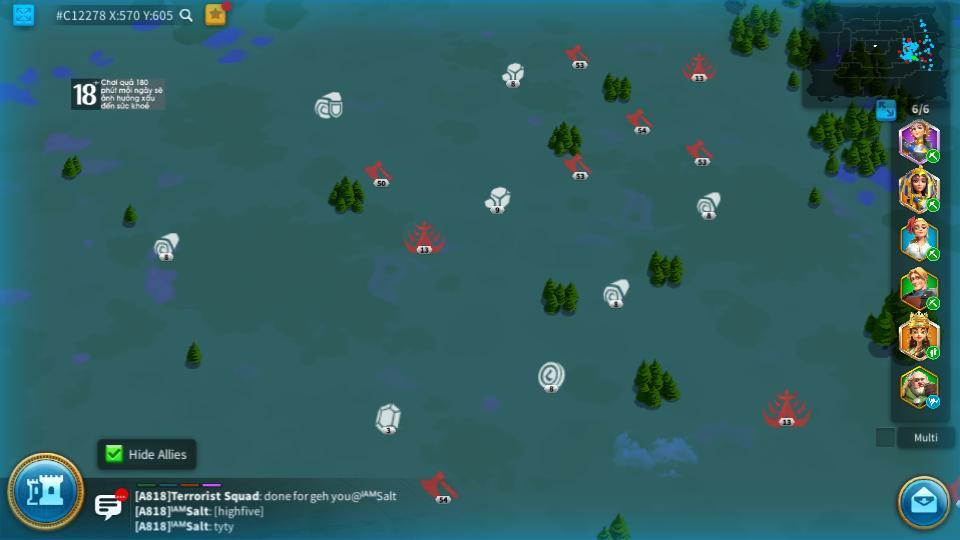gem-z-out: (374, 403, 402, 431)
march_farming: (925, 197, 941, 212), (925, 149, 941, 162), (924, 249, 939, 261), (926, 297, 941, 308)
march_idle: (925, 396, 942, 408)
march_marching: (925, 347, 941, 359)
